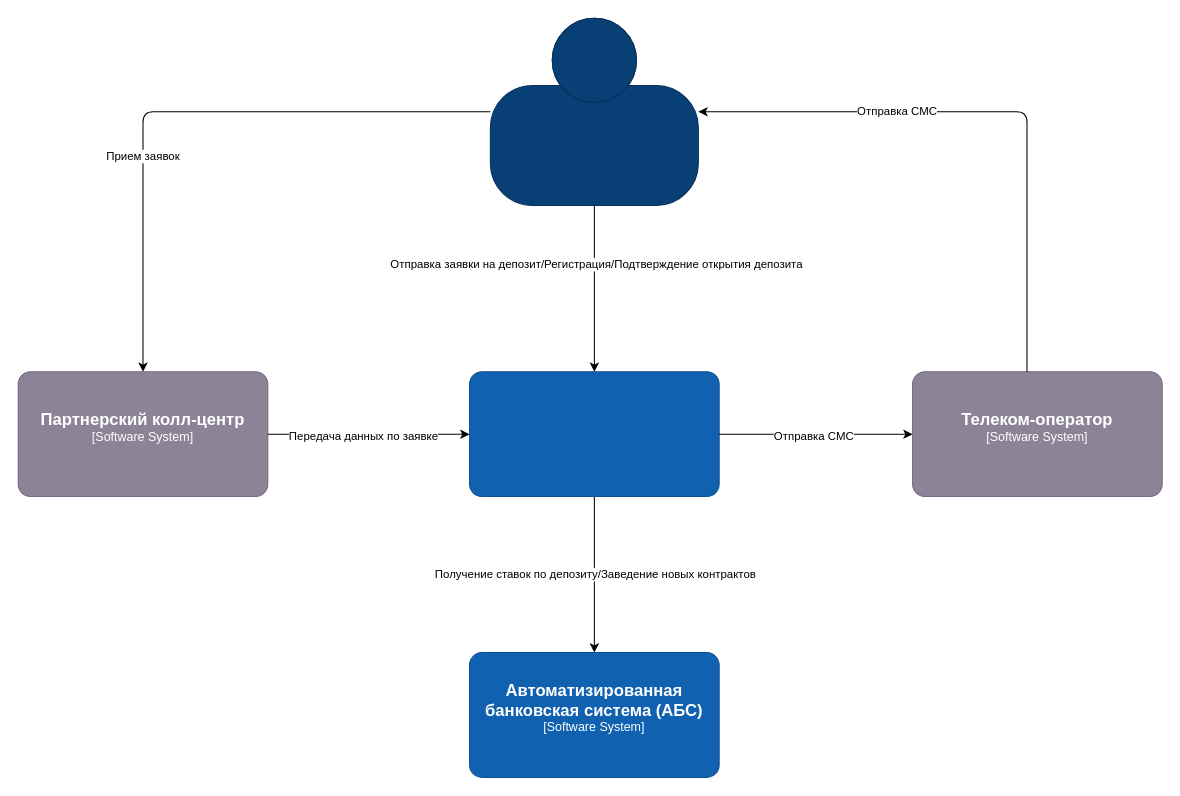
Some shapes in this 1180 by 796 pixel diagram are drawn without their labels. The shapes that lost their labels are listed below. From the top down, each one's centre as x and y in pixels, then its label:
the point at 593,111: Пользователь [Person]
the point at 594,434: Цифровая система Банка [Software System]
